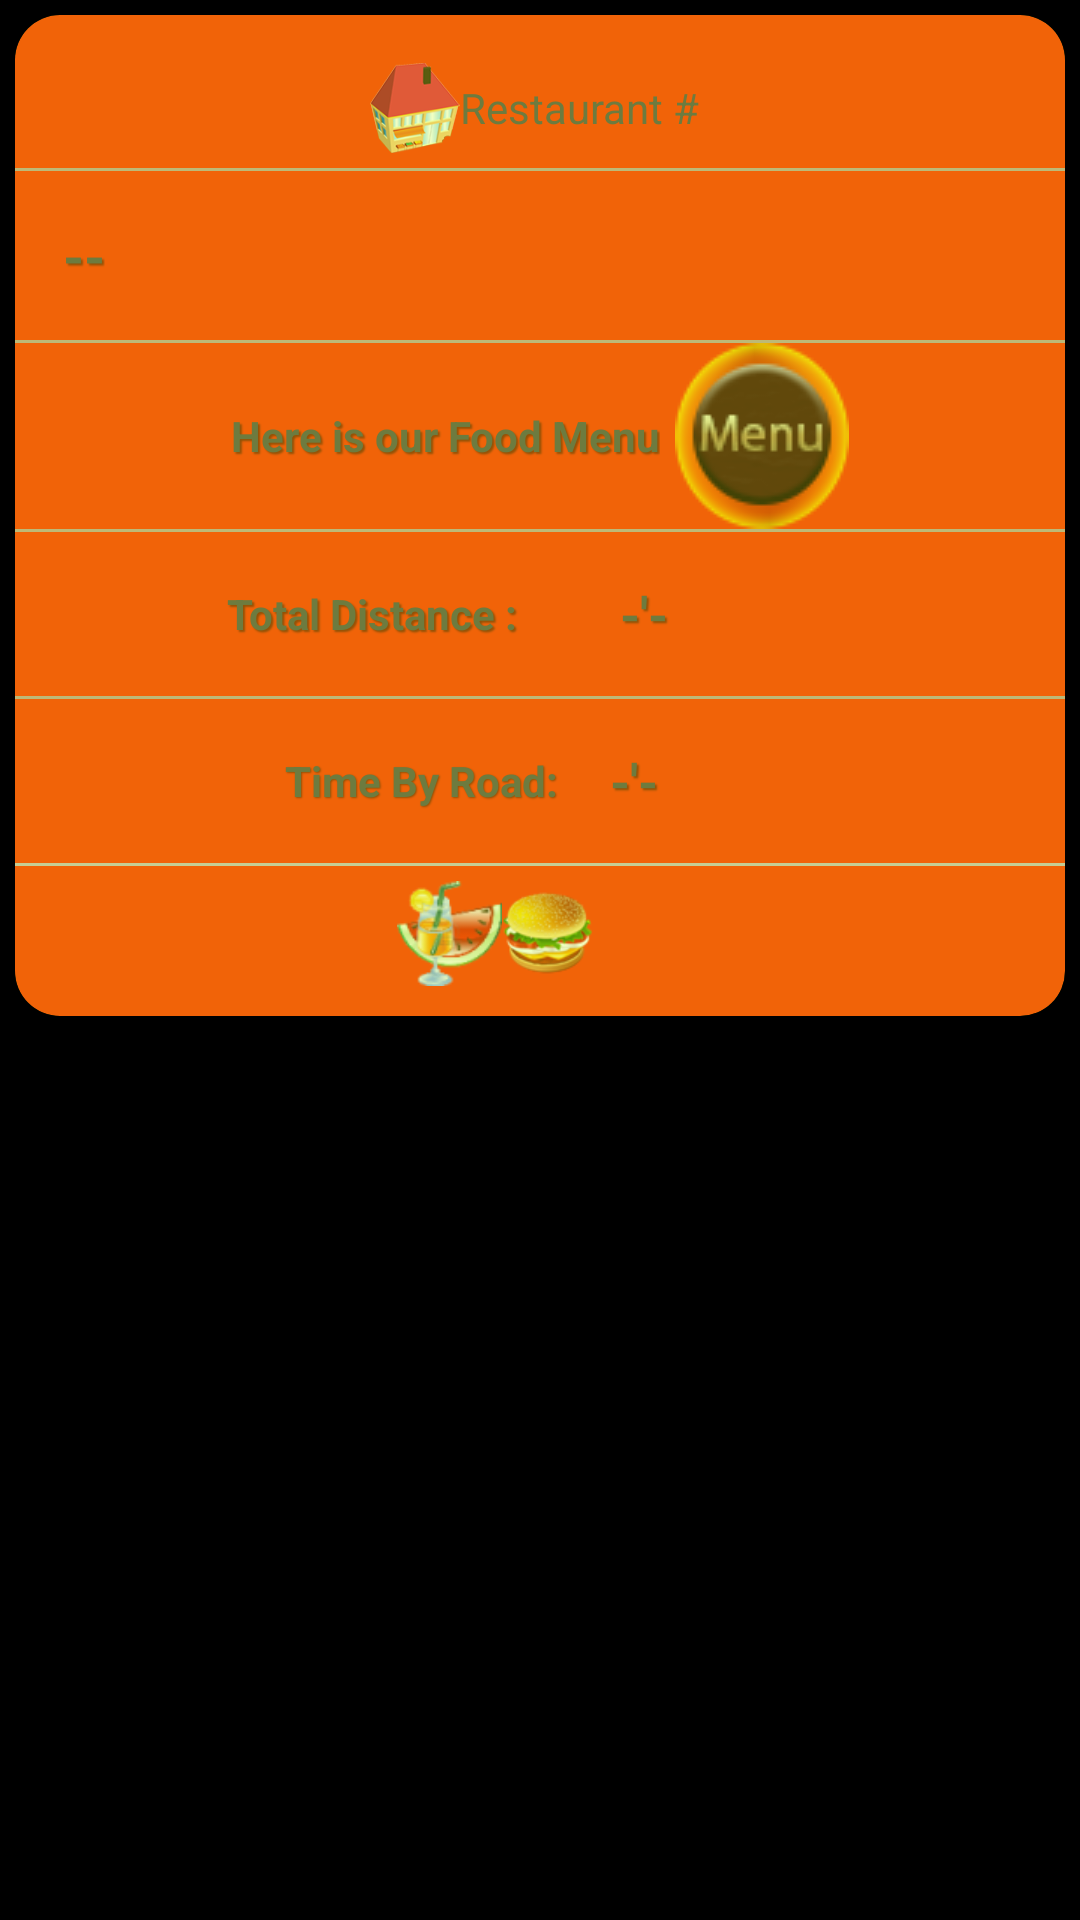

Where to tap for icons on this 1080x1920 app screen, as [x,y]:
burger: [547,933]
drinkss: [449,933]
